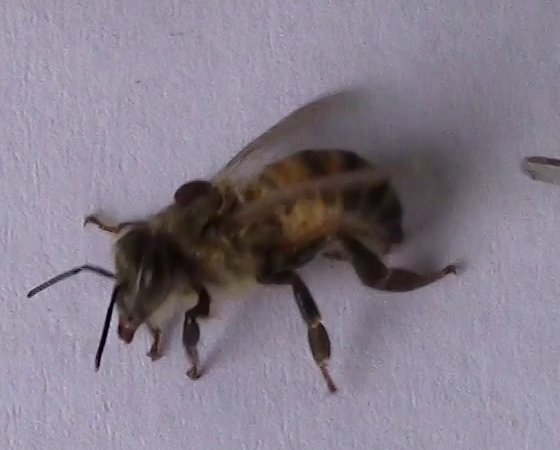Varroa destructor: (169, 179, 221, 206)
